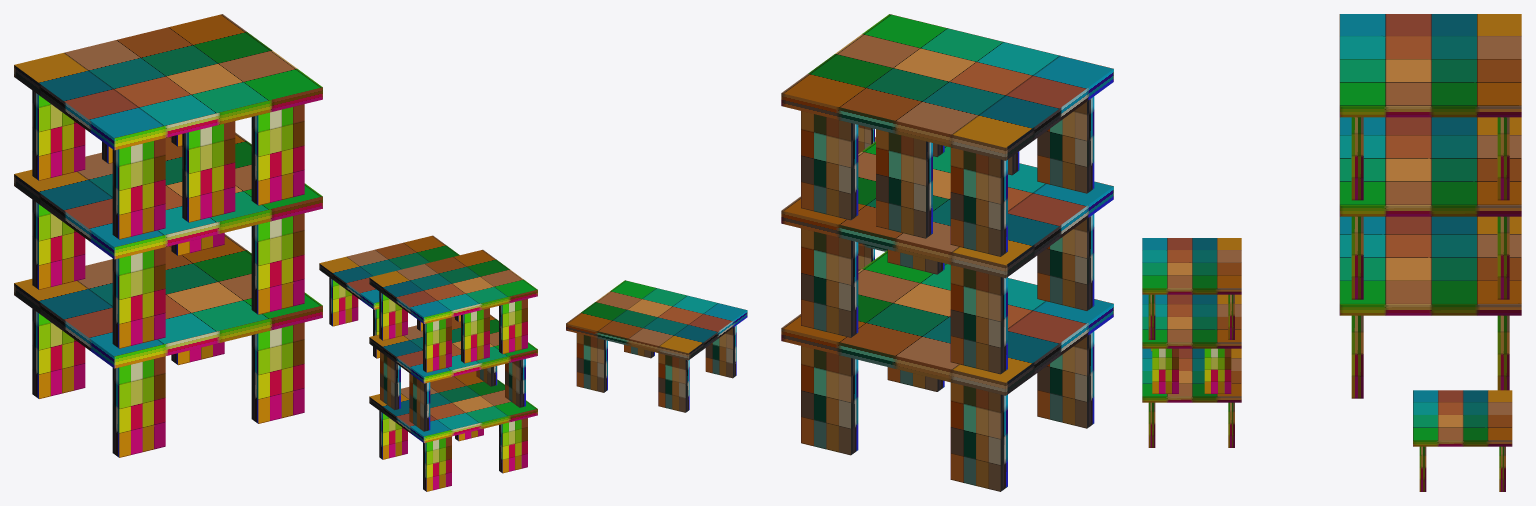
Rendered from Dynamic_1kg_1friction.fbx.
The picture shows the model from 3 angles, left to right: view 1: azimuth 30°, elevation 25°; view 2: azimuth 150°, elevation 25°; view 3: azimuth 270°, elevation 25°; orthographic projection. The views are drawn at different scales.
Visible parts, largest first — view 1: D4DynamicBox11, D4DynamicBox5, D4DynamicBox6, D2DynamicBox1, D2DynamicBox3, D4DynamicBox15, D4DynamicBox10, D4DynamicBox2, D4DynamicBox17, D4DynamicBox1, D4DynamicBox8, D4DynamicBox13 (+18 smaller); view 2: D4DynamicBox11, D4DynamicBox5, D4DynamicBox6, D3DynamicBox1, D4DynamicBox4, D4DynamicBox14, D4DynamicBox9, D4DynamicBox12, D4DynamicBox3, D4DynamicBox7, D4DynamicBox16, D4DynamicBox2 (+7 smaller); view 3: D4DynamicBox11, D4DynamicBox6, D4DynamicBox5, D2DynamicBox1, D3DynamicBox1, D2DynamicBox2, D2DynamicBox3, D2DynamicBox6, D2DynamicBox15, D4DynamicBox1, D4DynamicBox12, D4DynamicBox13 (+3 smaller).
Boxes of the visible parts, left/top/right/bottom form: D4DynamicBox11: left=14, top=14, right=322, bottom=150; D4DynamicBox5: left=14, top=234, right=322, bottom=368; D4DynamicBox6: left=14, top=132, right=322, bottom=259; D2DynamicBox1: left=369, top=249, right=537, bottom=323; D2DynamicBox3: left=369, top=371, right=537, bottom=442; D4DynamicBox15: left=112, top=138, right=165, bottom=239; D4DynamicBox10: left=112, top=247, right=165, bottom=348; D4DynamicBox2: left=112, top=356, right=165, bottom=457; D4DynamicBox17: left=182, top=121, right=235, bottom=222; D4DynamicBox1: left=251, top=322, right=304, bottom=423; D4DynamicBox8: left=251, top=213, right=304, bottom=314; D4DynamicBox13: left=251, top=104, right=304, bottom=205; D4DynamicBox11: left=781, top=14, right=1113, bottom=160; D4DynamicBox5: left=781, top=250, right=1113, bottom=395; D4DynamicBox6: left=781, top=141, right=1113, bottom=278; D3DynamicBox1: left=566, top=280, right=747, bottom=360; D4DynamicBox4: left=950, top=382, right=1007, bottom=491; D4DynamicBox14: left=950, top=147, right=1007, bottom=256; D4DynamicBox9: left=950, top=265, right=1007, bottom=374; D4DynamicBox12: left=801, top=111, right=858, bottom=220; D4DynamicBox3: left=801, top=346, right=858, bottom=455; D4DynamicBox7: left=801, top=228, right=858, bottom=337; D4DynamicBox16: left=876, top=129, right=932, bottom=238; D4DynamicBox2: left=1037, top=331, right=1094, bottom=428; D4DynamicBox11: left=1339, top=14, right=1521, bottom=117; D4DynamicBox6: left=1339, top=117, right=1521, bottom=216; D4DynamicBox5: left=1339, top=216, right=1521, bottom=315; D2DynamicBox1: left=1142, top=238, right=1241, bottom=294; D3DynamicBox1: left=1413, top=390, right=1512, bottom=446; D2DynamicBox2: left=1142, top=294, right=1241, bottom=348; D2DynamicBox3: left=1142, top=348, right=1241, bottom=402; D2DynamicBox6: left=1204, top=348, right=1231, bottom=393; D2DynamicBox15: left=1152, top=348, right=1178, bottom=393; D4DynamicBox1: left=1351, top=315, right=1363, bottom=398; D4DynamicBox12: left=1497, top=117, right=1509, bottom=200; D4DynamicBox13: left=1351, top=117, right=1363, bottom=200.
Size of what is drawn, in the model's own units: 193 by 146 by 169.
